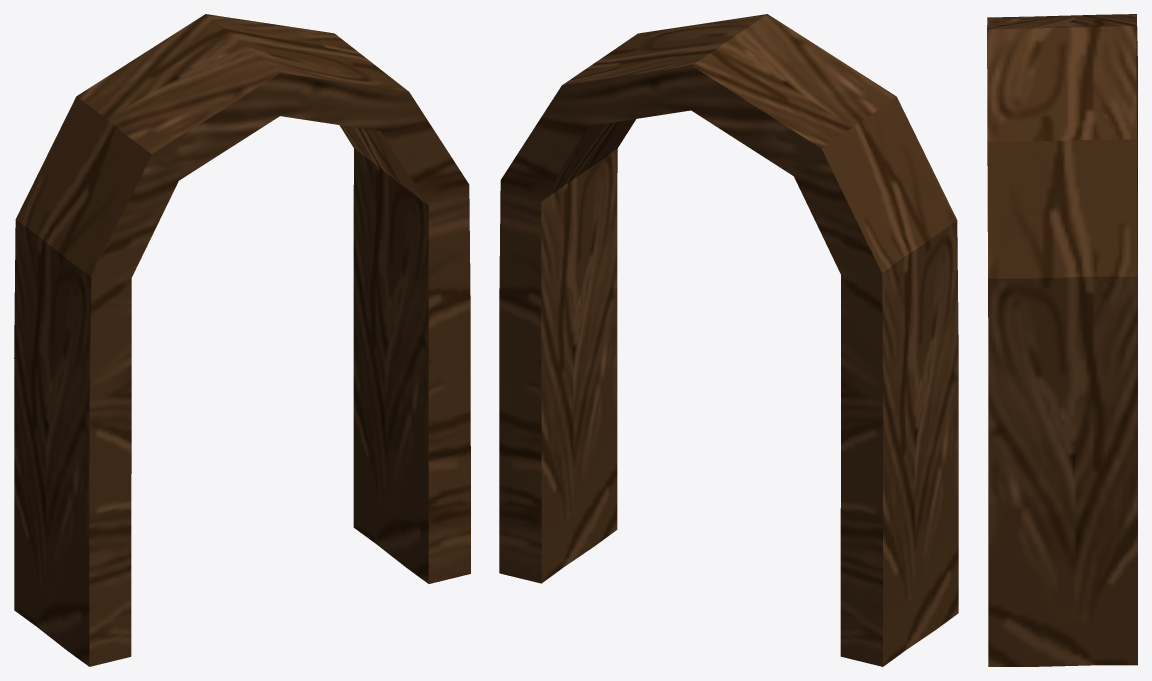
The model's file is doorOutside.fbx.
3 renders of one model, left to right at view 1: azimuth 30°, elevation 25°; view 2: azimuth 150°, elevation 25°; view 3: azimuth 270°, elevation 25°, orthographic.
Visible parts, largest first — view 1: marco puerta; view 2: marco puerta; view 3: marco puerta.
Part boxes in pixels (x1,y1,x2,y2): marco puerta: (14,14,470,666); marco puerta: (499,14,958,666); marco puerta: (987,14,1137,666).
Bounding box in the file's own units: 195 × 270 × 67.26.
